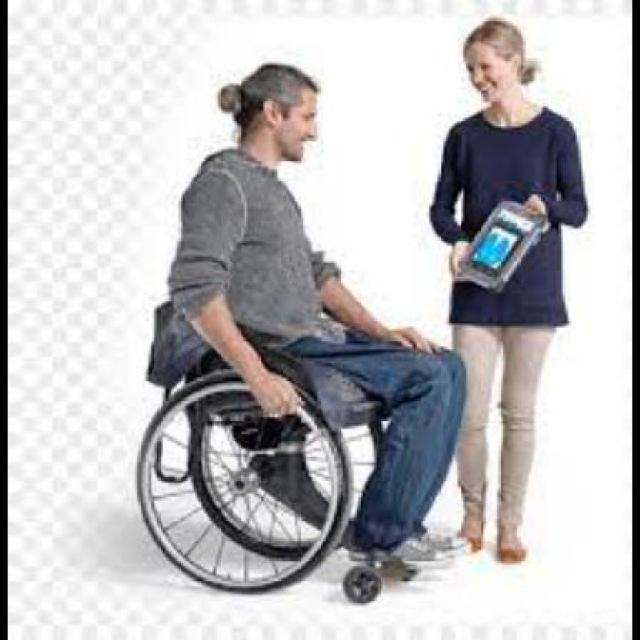wheelchairs: (134, 256, 445, 606)
